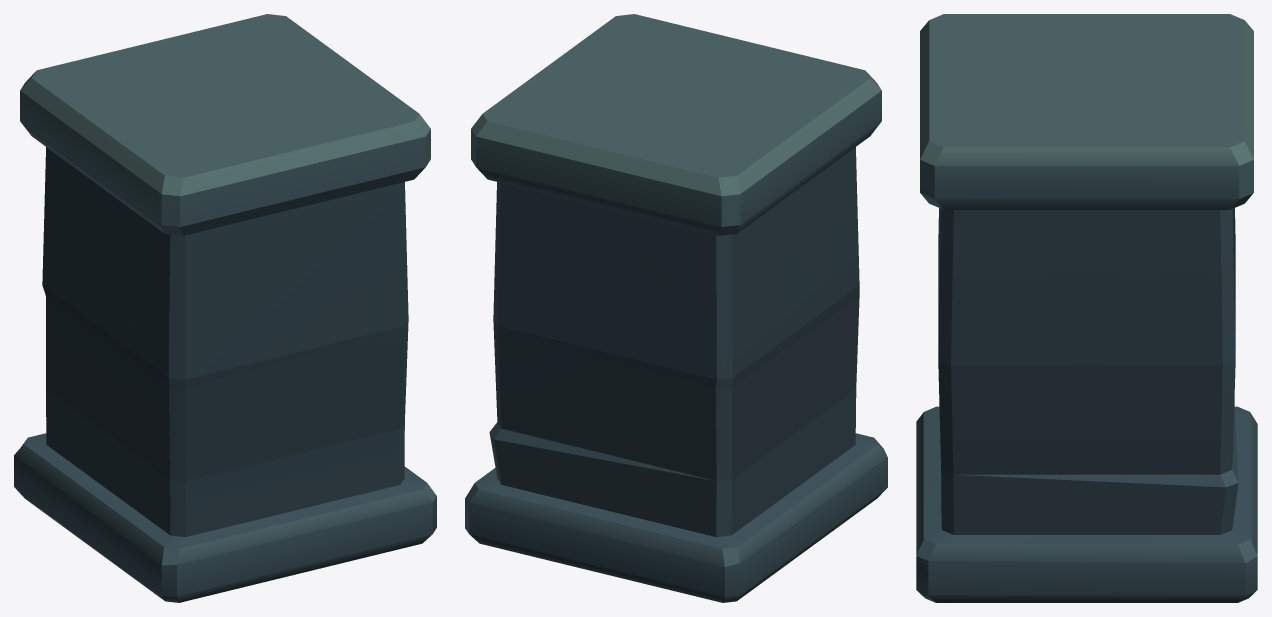
The model's file is pillar_fat_segment.fbx.
The picture shows the model from 3 angles, left to right: view 1: azimuth 30°, elevation 25°; view 2: azimuth 150°, elevation 25°; view 3: azimuth 270°, elevation 25°; orthographic projection. The views are drawn at different scales.
Parts seen in each view (by area): view 1: pillar_fat_segment; view 2: pillar_fat_segment; view 3: pillar_fat_segment.
Part boxes in pixels (<box>): pillar_fat_segment: <box>14,14,436,602</box>; pillar_fat_segment: <box>465,14,887,602</box>; pillar_fat_segment: <box>916,14,1257,602</box>.
Bounding box in the file's own units: 141 × 206 × 140.
